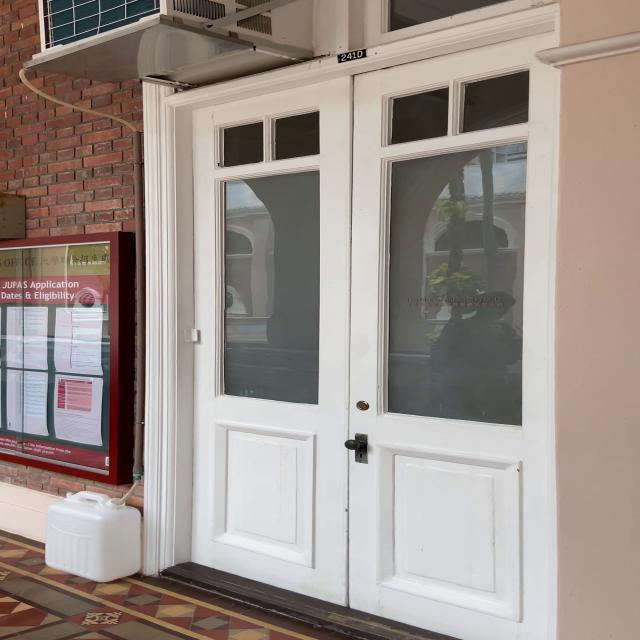room241d: (332, 46, 373, 65)
